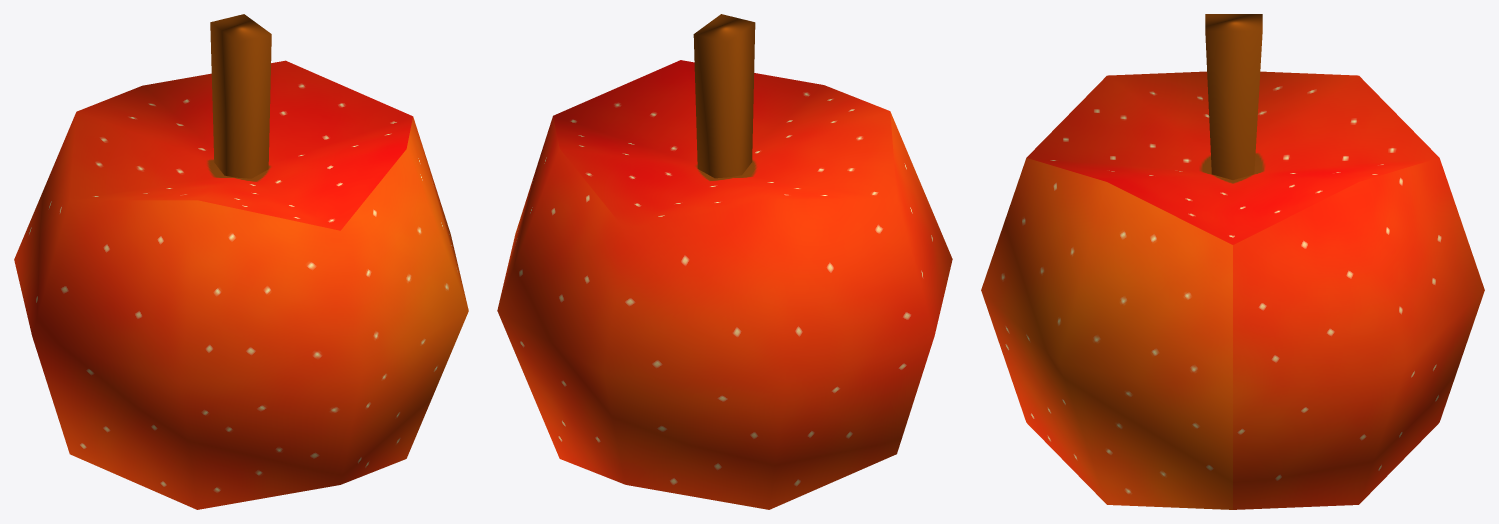
File: apple_Red.obj
The picture shows the model from 3 angles, left to right: view 1: azimuth 30°, elevation 25°; view 2: azimuth 150°, elevation 25°; view 3: azimuth 270°, elevation 25°; orthographic projection. The views are drawn at different scales.
Visible parts, largest first — view 1: Cube, 立方体; view 2: Cube, 立方体; view 3: Cube, 立方体.
Part boxes in pixels (x1=…): Cube: x1=14, y1=60, x2=468, y2=509; 立方体: x1=210, y1=14, x2=271, y2=178; Cube: x1=497, y1=60, x2=952, y2=509; 立方体: x1=693, y1=14, x2=755, y2=178; Cube: x1=981, y1=71, x2=1484, y2=509; 立方体: x1=1205, y1=14, x2=1262, y2=179.
Size of the model in its own units: 1.72 by 1.74 by 1.72.
1 material, 1 textured.
